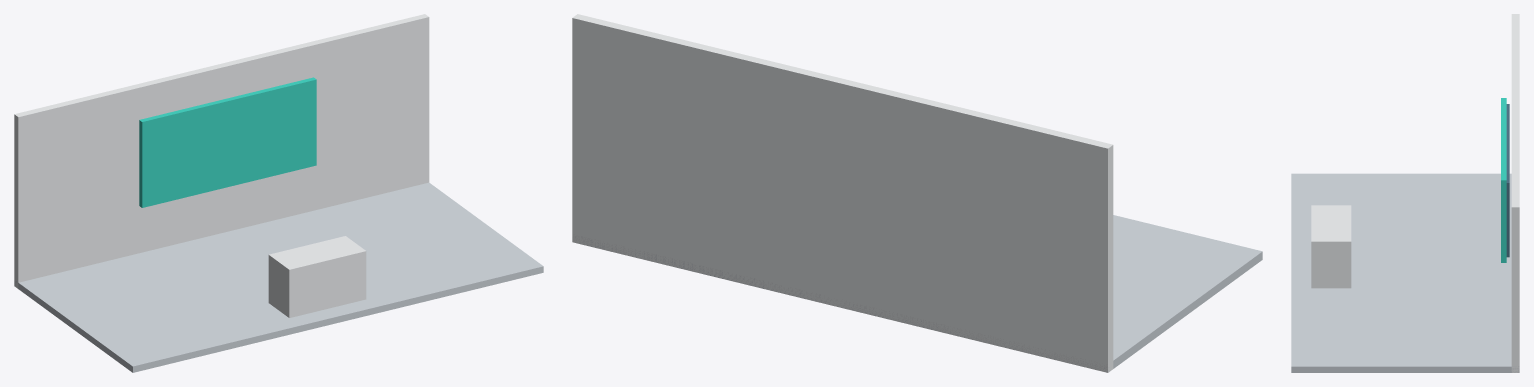
The picture shows the model from 3 angles, left to right: view 1: azimuth 30°, elevation 25°; view 2: azimuth 150°, elevation 25°; view 3: azimuth 270°, elevation 25°; orthographic projection. The views are drawn at different scales.
Visible parts, largest first — view 1: Exhibition Booth Concept; view 2: Exhibition Booth Concept; view 3: Exhibition Booth Concept.
Part boxes in pixels (x1,y1,x2,y2): Exhibition Booth Concept: (14,14,543,372); Exhibition Booth Concept: (572,14,1262,372); Exhibition Booth Concept: (1291,14,1519,372).
Size of the model in its own units: 8 by 3.2 by 4.
